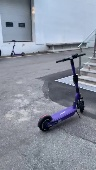beam: (38, 52, 87, 132), (10, 39, 25, 57)
